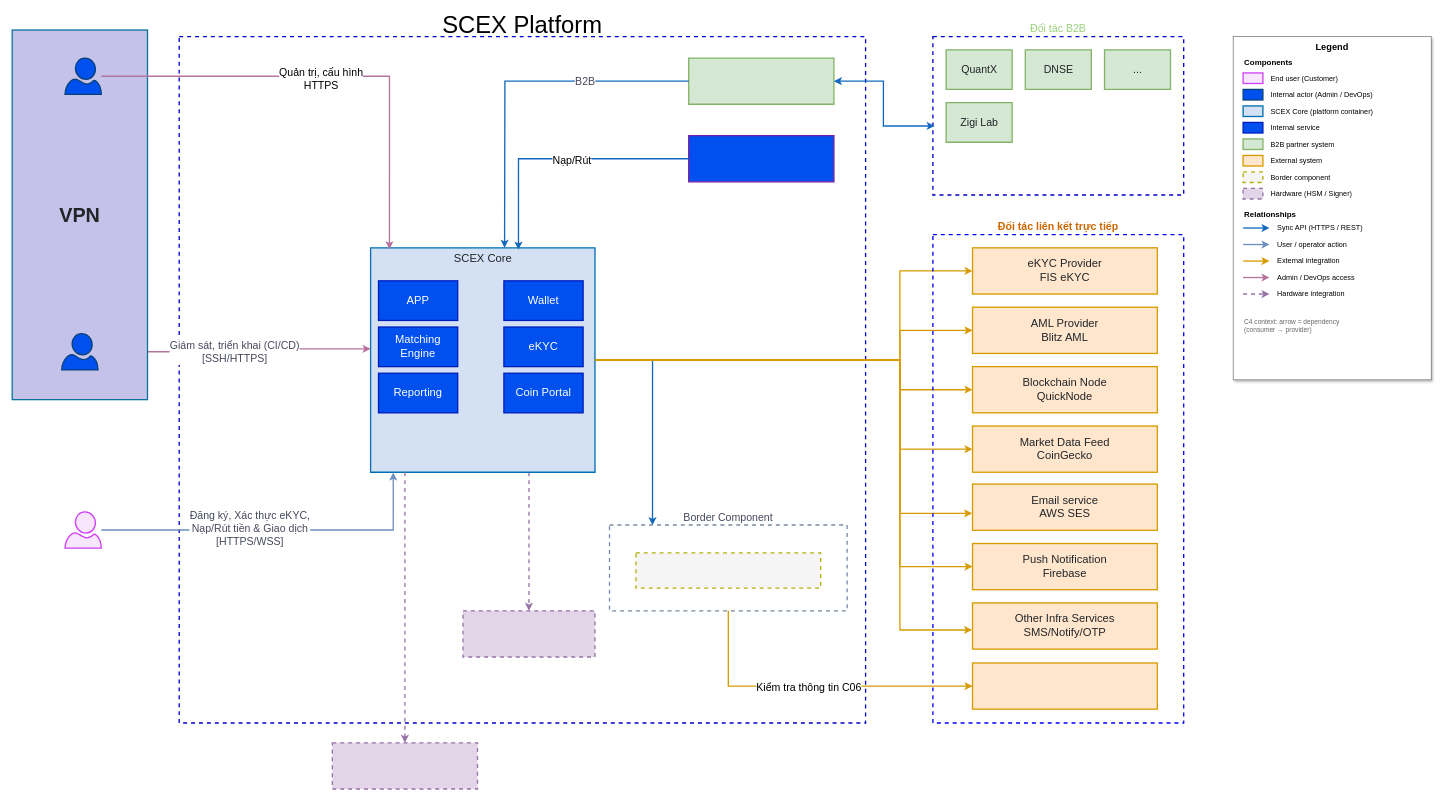
The diagram is 1447 pixels wide and 801 high, and some of its shapes have lost their labels. Each missing label, with the centre of its shape:
Admin (NV Vận hành, mamager,...): the point at 83,76
B2B Hub Partner Hub / B2B: the point at 761,81
Bank Gateway FIAT Payment: the point at 761,158
C06 Central Secure Server: the point at 728,570
C06 Quản lý hành chính trật tự: the point at 1065,686
Device Signer hardware: the point at 404,765
DevOps DevOps/SRE: the point at 79,351
HSM hardware: the point at 528,633
Người dùng giao dịch: the point at 83,529
